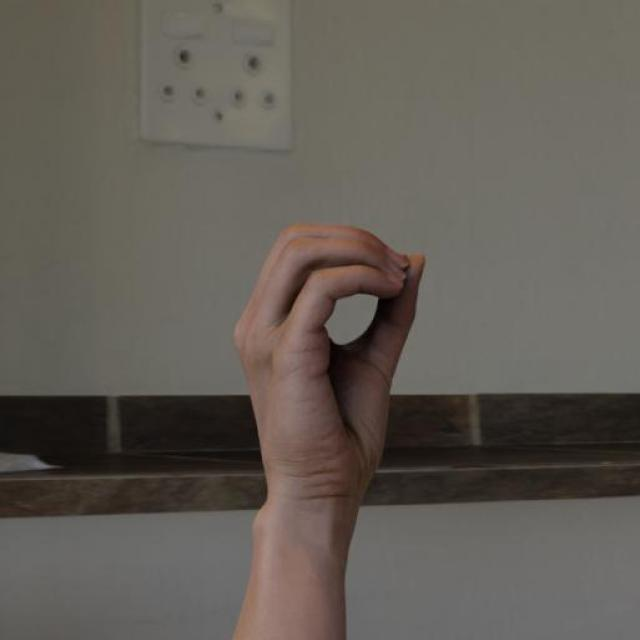O: (190, 189, 466, 583)
